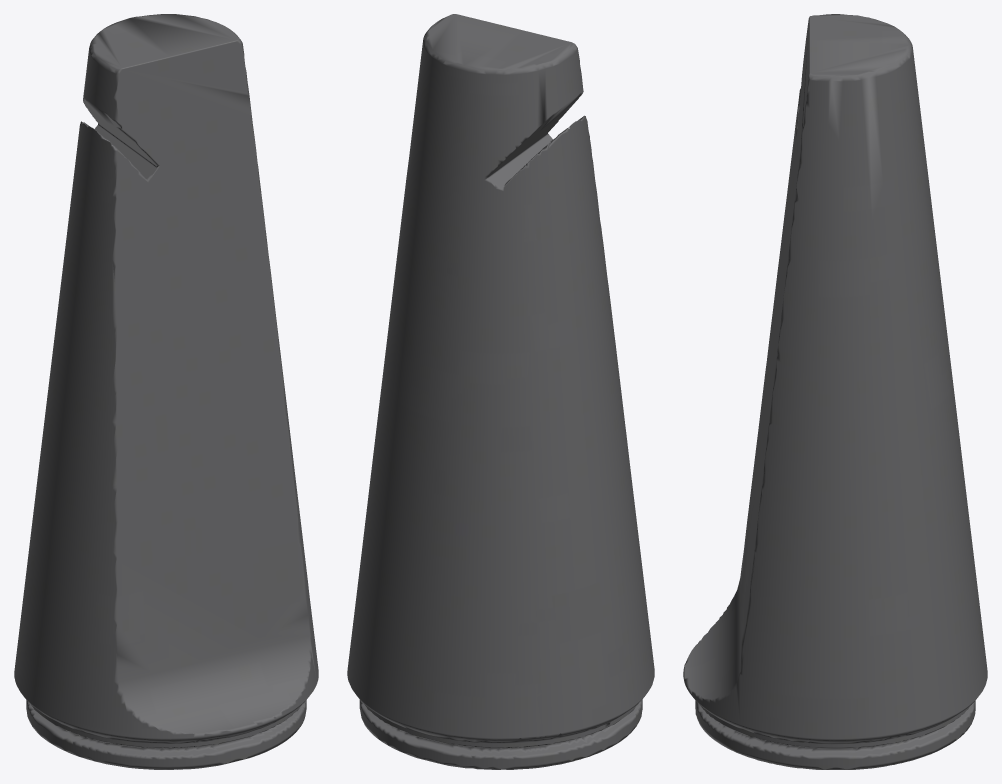
The model's file is bishop-black.glb.
3 renders of one model, left to right at view 1: azimuth 30°, elevation 25°; view 2: azimuth 150°, elevation 25°; view 3: azimuth 270°, elevation 25°, orthographic.
Visible parts, largest first — view 1: 03_strelec_cerna; view 2: 03_strelec_cerna; view 3: 03_strelec_cerna.
Part boxes in pixels (box(x1,y1,x2,y2)): 03_strelec_cerna: box(14, 14, 318, 769); 03_strelec_cerna: box(347, 14, 654, 769); 03_strelec_cerna: box(683, 14, 987, 769).
Size of the model in its own units: 0.5624 by 1.36 by 0.562.
Materials: 1 (1 with a texture image).
